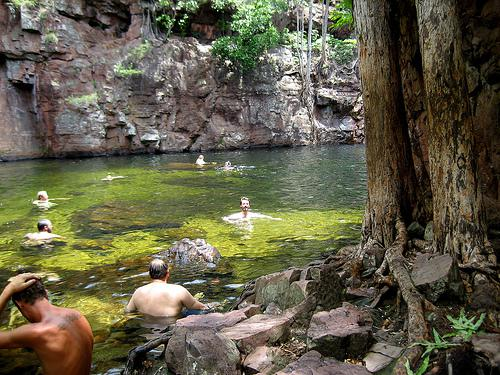human: (1, 270, 94, 374), (121, 258, 195, 320), (222, 195, 257, 226), (29, 216, 56, 238), (35, 190, 54, 206), (196, 153, 206, 165), (222, 160, 234, 168)
